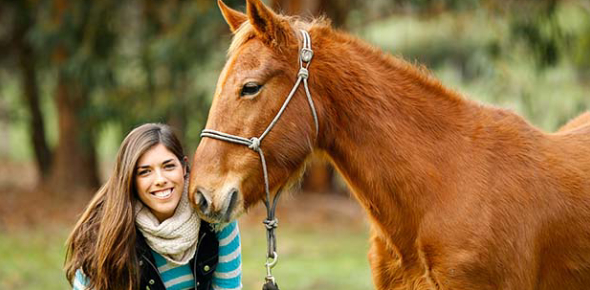Horse: (185, 4, 582, 286)
Person: (82, 117, 222, 289)
